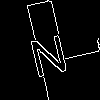N: (25, 25, 71, 78)
